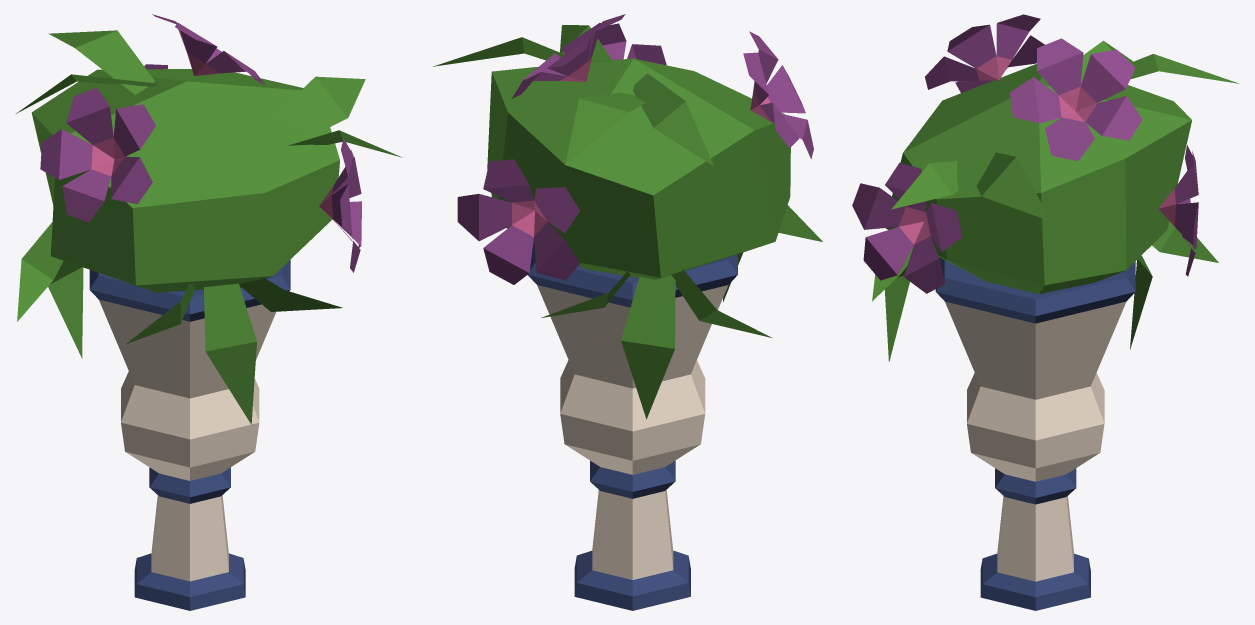
The model's file is empire-flowerpot-standing-small-empire.glb.
3 views of the same model, side by side, from view 1: azimuth 30°, elevation 25°; view 2: azimuth 150°, elevation 25°; view 3: azimuth 270°, elevation 25° (orthographic). The views are drawn at different scales.
Visible parts, largest first — view 1: SM_Flowerpot_Standing_Small_Empire; view 2: SM_Flowerpot_Standing_Small_Empire; view 3: SM_Flowerpot_Standing_Small_Empire.
Boxes of the visible parts, left/top/right/bottom form: SM_Flowerpot_Standing_Small_Empire: left=16, top=14, right=401, bottom=610; SM_Flowerpot_Standing_Small_Empire: left=433, top=14, right=822, bottom=610; SM_Flowerpot_Standing_Small_Empire: left=852, top=14, right=1239, bottom=610.
Bounding box in the file's own units: 0.6079 × 0.9429 × 0.6098.
